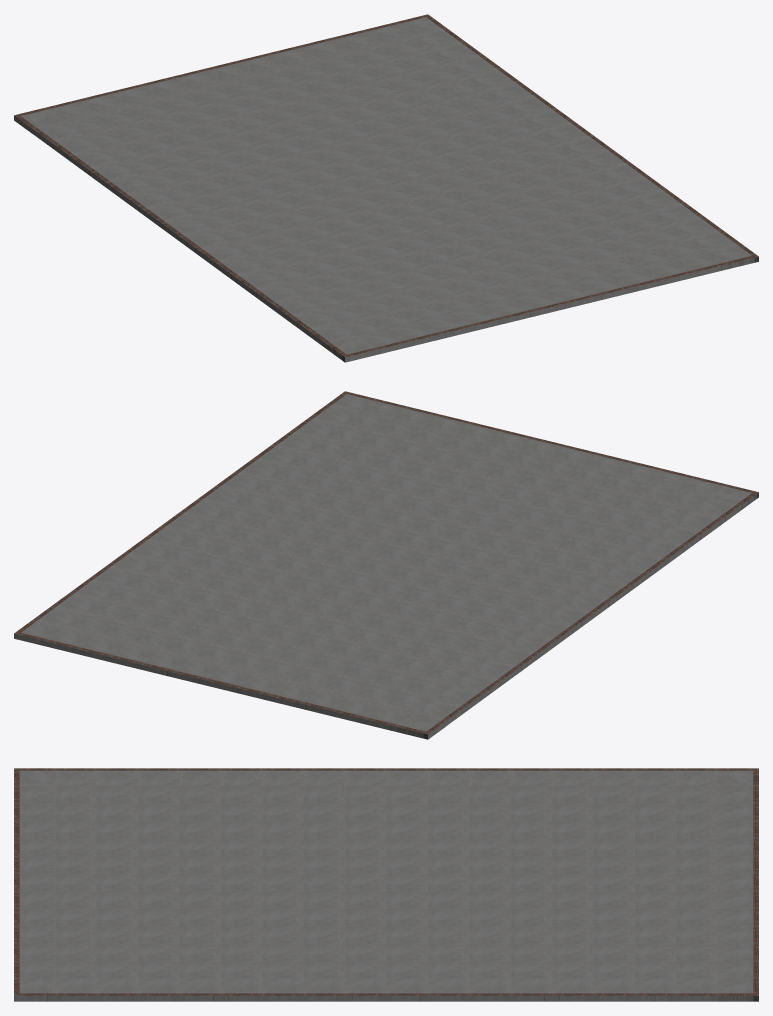
File: suelo.fbx
3 views of the same model, one above another, from view 1: azimuth 30°, elevation 25°; view 2: azimuth 150°, elevation 25°; view 3: azimuth 270°, elevation 25° (orthographic). The views are drawn at different scales.
Visible parts, largest first — view 1: pCube37; view 2: pCube37; view 3: pCube37.
Boxes of the visible parts, bbox=[...] form: pCube37: bbox=[14, 14, 758, 362]; pCube37: bbox=[14, 391, 758, 739]; pCube37: bbox=[14, 768, 758, 1001].
Bounding box in the file's own units: 39.23 × 0.4701 × 54.32.
